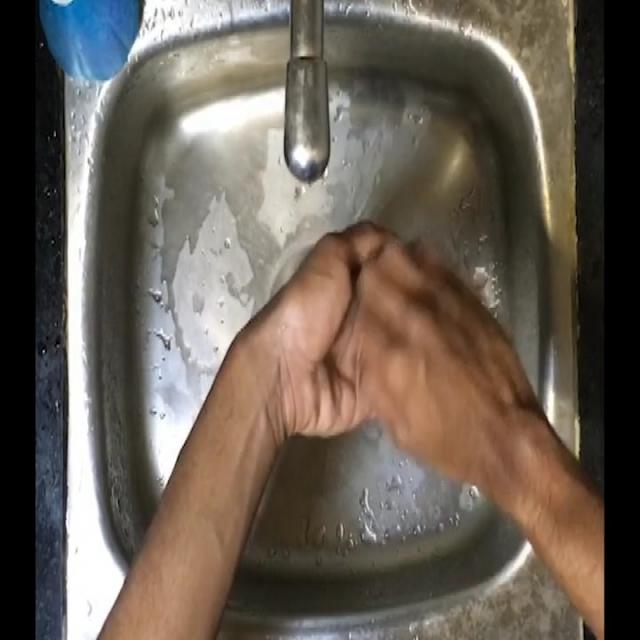step_4: (260, 205, 498, 445)
